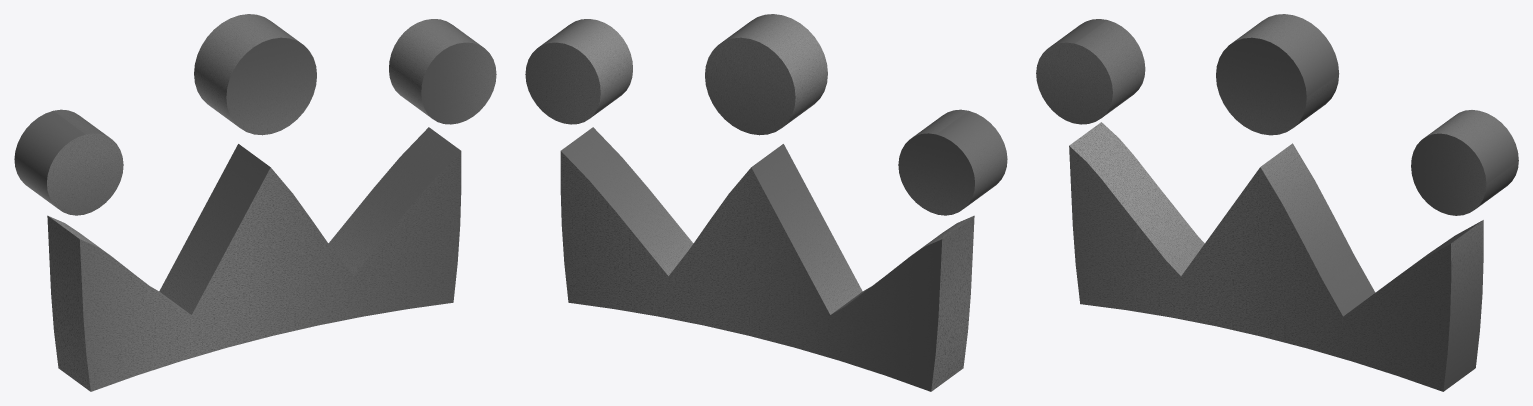
Rendered from Danish Crown.obj.
The picture shows the model from 3 angles, left to right: view 1: azimuth 30°, elevation 25°; view 2: azimuth 150°, elevation 25°; view 3: azimuth 330°, elevation 25°; orthographic projection.
Visible parts, largest first — view 1: object_1, object_4, object_2, object_3; view 2: object_1, object_4, object_2, object_3; view 3: object_1, object_4, object_2, object_3.
Boxes of the visible parts, left/top/right/bottom form: object_1: left=47, top=127, right=461, bottom=391; object_4: left=194, top=14, right=316, bottom=135; object_2: left=14, top=109, right=123, bottom=215; object_3: left=389, top=19, right=496, bottom=124; object_1: left=560, top=127, right=974, bottom=391; object_4: left=705, top=14, right=827, bottom=135; object_2: left=898, top=109, right=1007, bottom=215; object_3: left=525, top=19, right=632, bottom=124; object_1: left=1069, top=122, right=1483, bottom=391; object_4: left=1216, top=14, right=1339, bottom=135; object_2: left=1036, top=19, right=1145, bottom=124; object_3: left=1411, top=110, right=1518, bottom=215.
Bounding box in the file's own units: 0.7808 × 0.5124 × 0.0974.
Materials: 1 (1 with a texture image).
